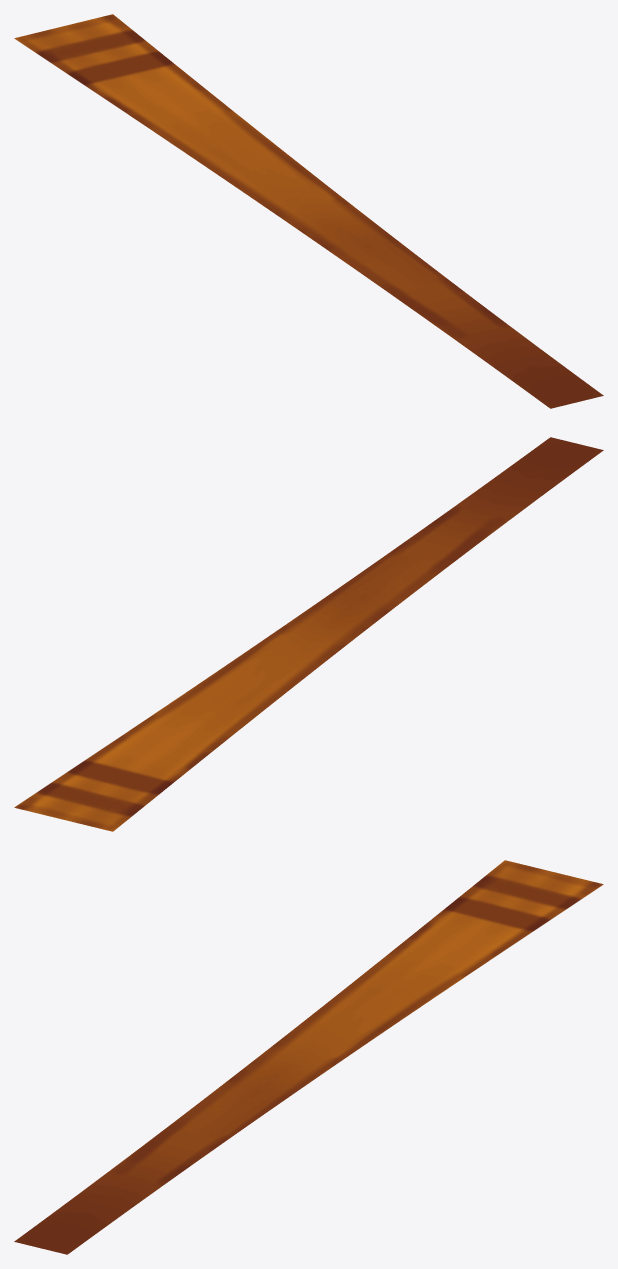
Rendered from samurai_cloth_small.fbx.
3 renders of one model, top to bottom at view 1: azimuth 30°, elevation 25°; view 2: azimuth 150°, elevation 25°; view 3: azimuth 330°, elevation 25°, orthographic.
Parts seen in each view (by area): view 1: cloth_small; view 2: cloth_small; view 3: cloth_small.
Boxes of the visible parts, x1,y1,x2,y2 form: cloth_small: (14, 14, 603, 408); cloth_small: (14, 437, 603, 831); cloth_small: (14, 860, 603, 1254).
Size of the model in its own units: 35.91 by 0 by 323.
